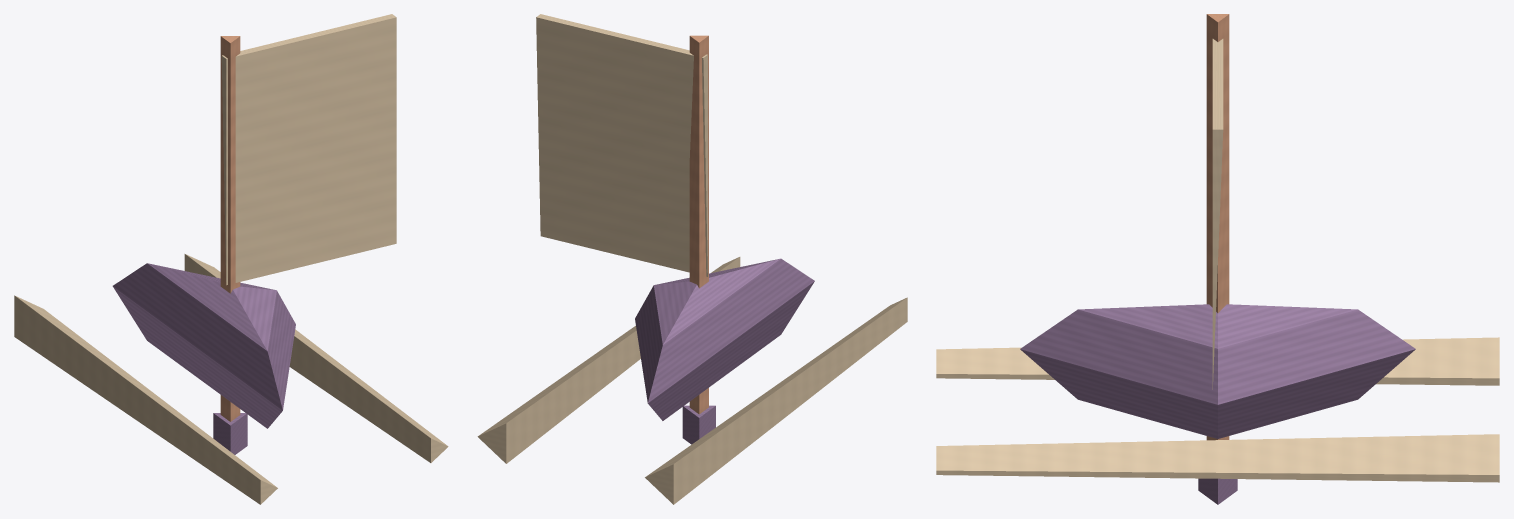
Rendered from atlas100-s089-a01.lod2.glb.
3 views of the same model, side by side, from view 1: azimuth 30°, elevation 25°; view 2: azimuth 150°, elevation 25°; view 3: azimuth 270°, elevation 25° (orthographic). The views are drawn at different scales.
Visible parts, largest first — view 1: atlas100-s089-a01:part-007, atlas100-s089-a01:part-000, atlas100-s089-a01:part-003, atlas100-s089-a01:part-004, atlas100-s089-a01:part-005, atlas100-s089-a01:part-006; view 2: atlas100-s089-a01:part-007, atlas100-s089-a01:part-000, atlas100-s089-a01:part-003, atlas100-s089-a01:part-004, atlas100-s089-a01:part-005, atlas100-s089-a01:part-006; view 3: atlas100-s089-a01:part-000, atlas100-s089-a01:part-004, atlas100-s089-a01:part-003, atlas100-s089-a01:part-005, atlas100-s089-a01:part-007, atlas100-s089-a01:part-006.
Boxes of the visible parts, x1,y1,x2,y2 form: atlas100-s089-a01:part-007: (221, 14, 396, 285); atlas100-s089-a01:part-000: (112, 263, 295, 428); atlas100-s089-a01:part-003: (14, 295, 277, 504); atlas100-s089-a01:part-004: (184, 254, 448, 462); atlas100-s089-a01:part-005: (220, 36, 240, 421); atlas100-s089-a01:part-006: (213, 413, 247, 454); atlas100-s089-a01:part-007: (536, 14, 707, 276); atlas100-s089-a01:part-000: (635, 258, 814, 420); atlas100-s089-a01:part-003: (645, 297, 907, 504); atlas100-s089-a01:part-004: (477, 257, 740, 463); atlas100-s089-a01:part-005: (689, 35, 708, 414); atlas100-s089-a01:part-006: (682, 405, 715, 444); atlas100-s089-a01:part-000: (1020, 304, 1415, 438); atlas100-s089-a01:part-004: (936, 434, 1499, 482); atlas100-s089-a01:part-003: (936, 337, 1499, 385); atlas100-s089-a01:part-005: (1206, 14, 1229, 440); atlas100-s089-a01:part-007: (1212, 39, 1223, 389); atlas100-s089-a01:part-006: (1198, 478, 1237, 504).
Size of the model in its own units: 1.98 by 3 by 3.2.
Materials: 3 (3 with a texture image).
